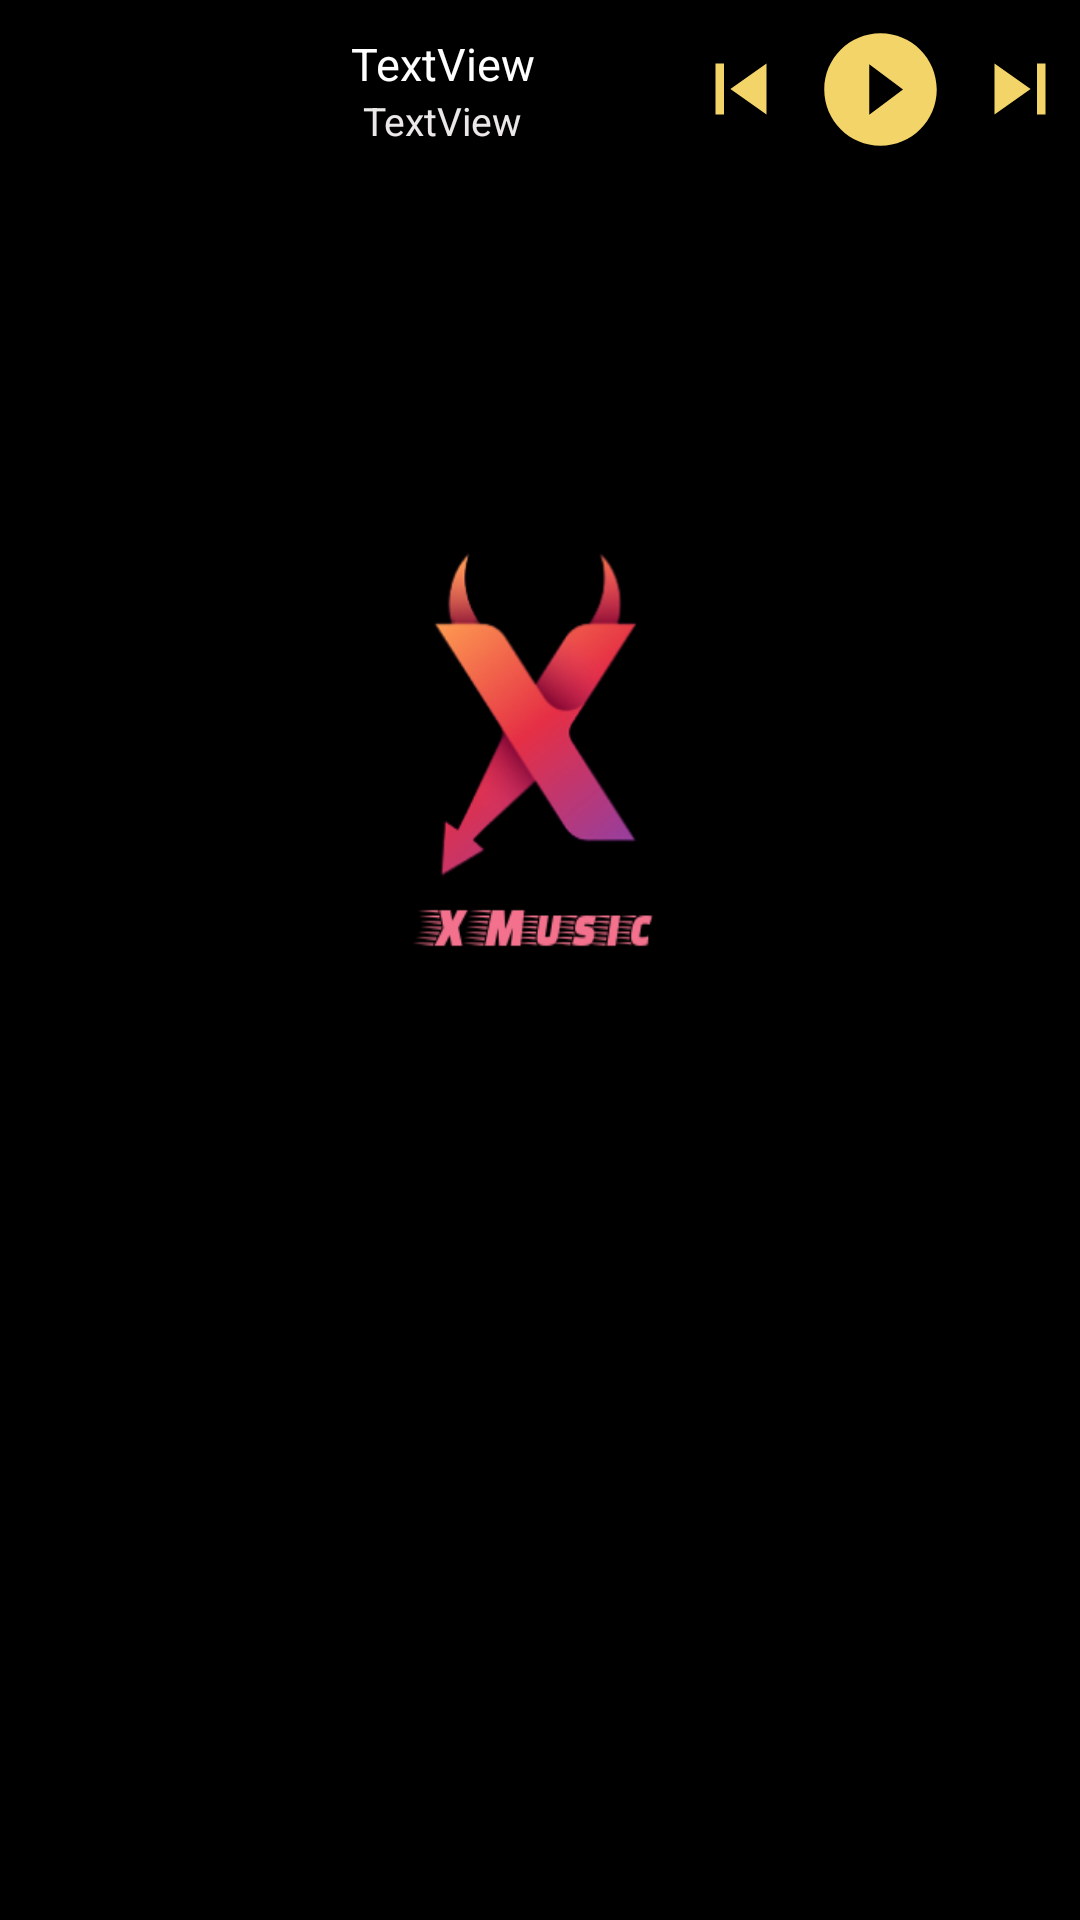

Where icons sit on this 1080x1920 app screen, as [x1,y1,x2,y2]:
next: [994,63,1046,115]
play: [824,33,937,146]
previous: [715,63,767,115]
